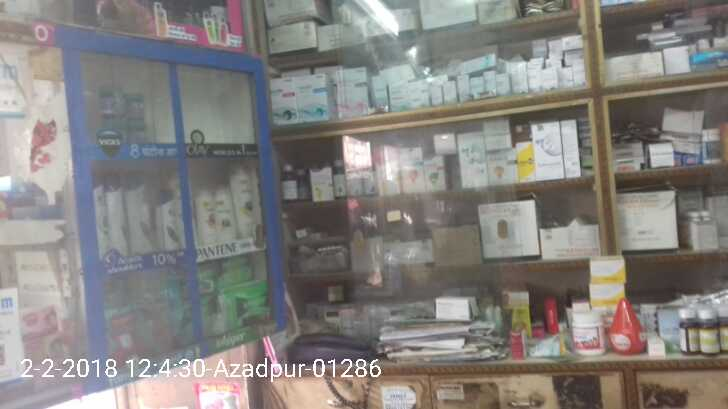vicks: (101, 75, 150, 144)
